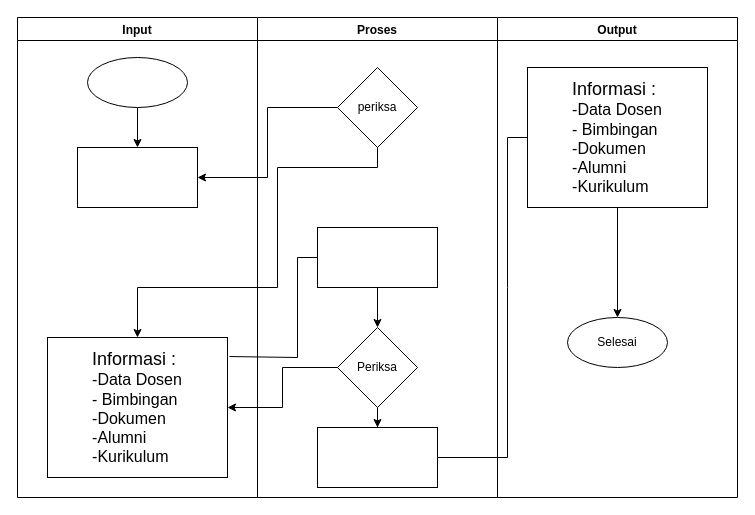
Some shapes in this 755 by 515 pixel diagram are drawn without their labels. The shapes that lost their labels are listed below. From the top down, each one's centre as x and y in pixels, then its label:
(137,82): Mulai
(137,177): Masukan password dan Password
(377,257): Proses mencari
(377,457): Database
